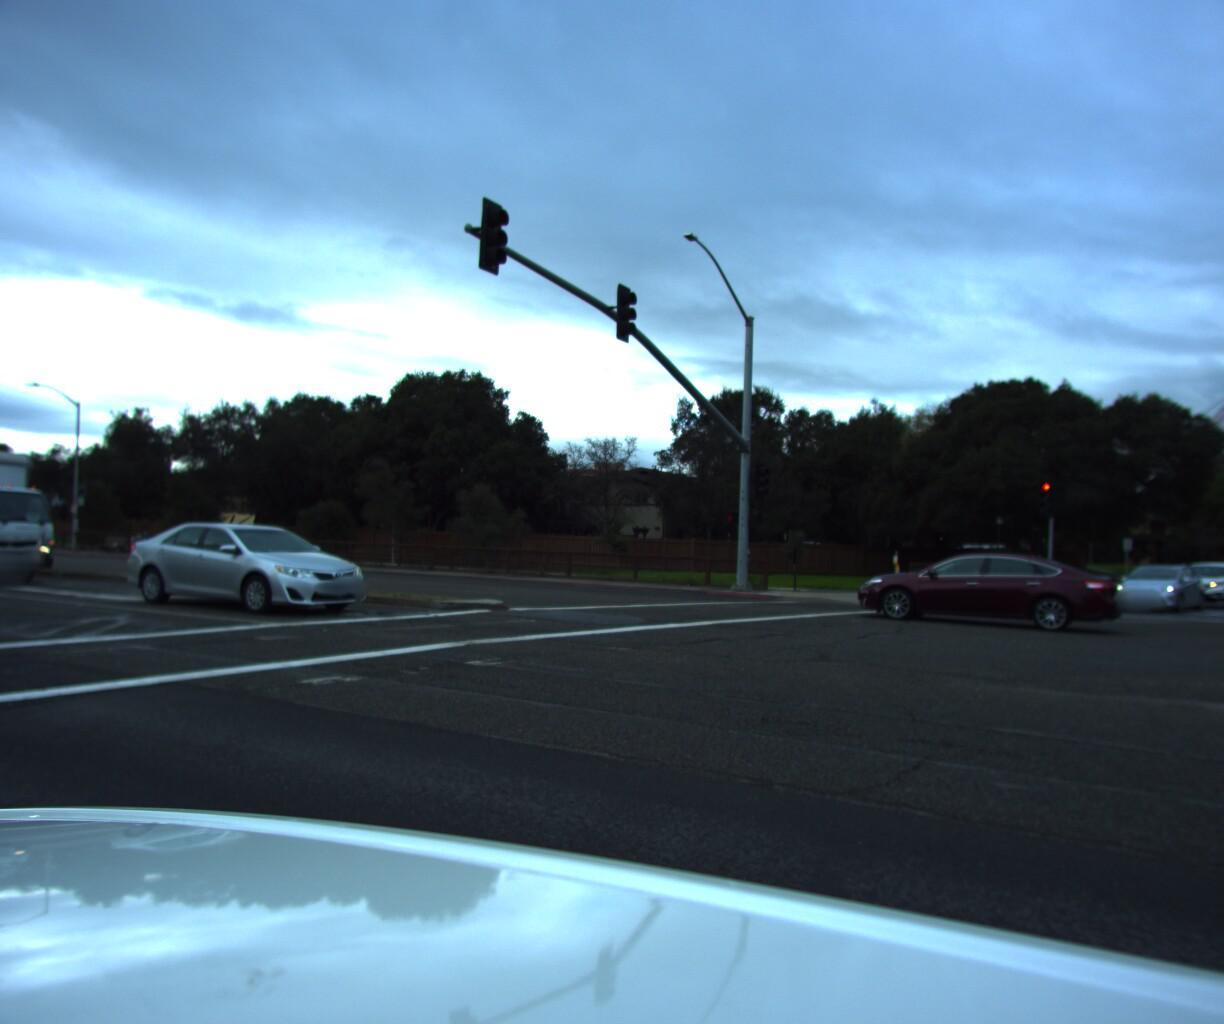car: (105, 511, 382, 619), (850, 537, 1136, 636), (1098, 556, 1206, 611), (1153, 554, 1224, 604)
